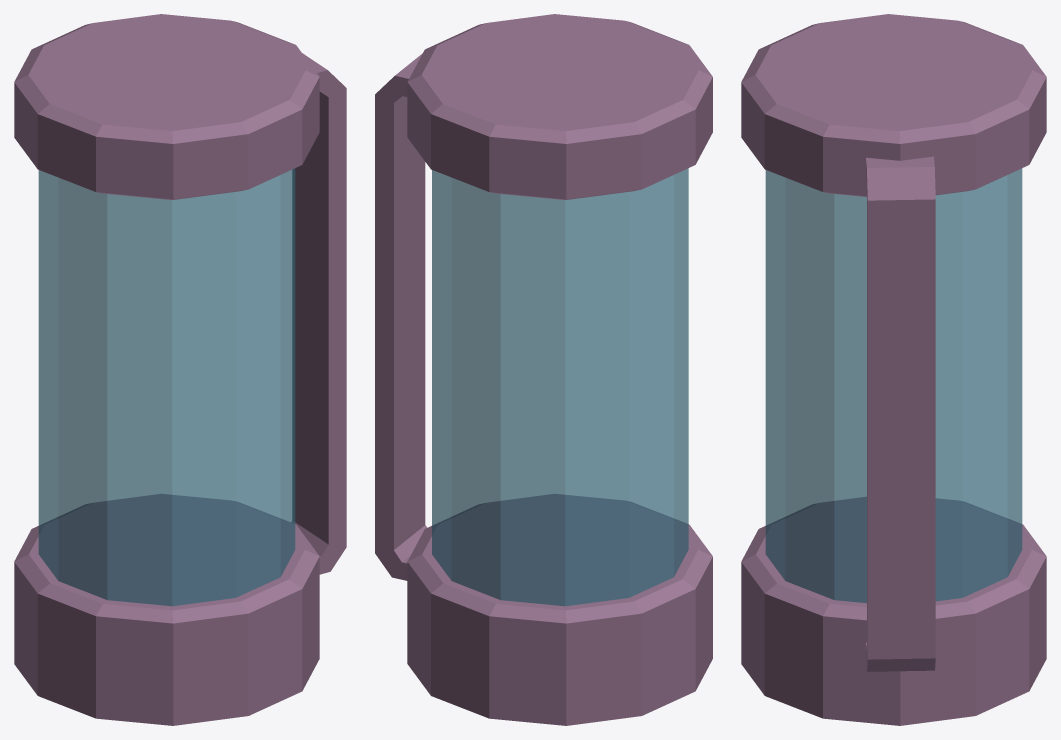
File: Pod_001.gltf
3 renders of one model, left to right at view 1: azimuth 30°, elevation 25°; view 2: azimuth 150°, elevation 25°; view 3: azimuth 270°, elevation 25°, orthographic.
Parts seen in each view (by area): view 1: Pod_001; view 2: Pod_001; view 3: Pod_001.
Part boxes in pixels (x1,y1,x2,y2): Pod_001: (14, 14, 346, 725); Pod_001: (375, 14, 712, 725); Pod_001: (741, 14, 1046, 725).
Bounding box in the file's own units: 1.13 × 2.13 × 0.9992.
